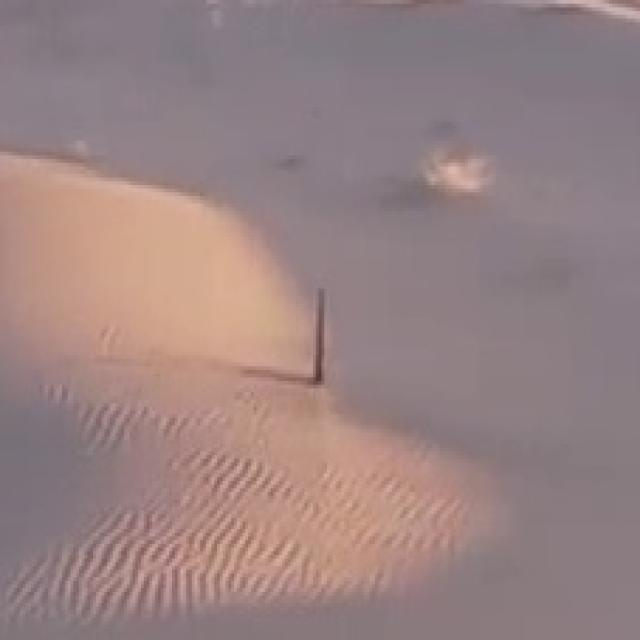Tire: (315, 289, 325, 381)
